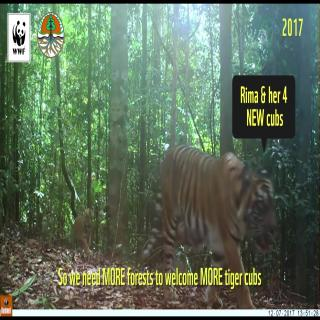Tiger: (155, 121, 272, 257), (69, 188, 97, 250)
